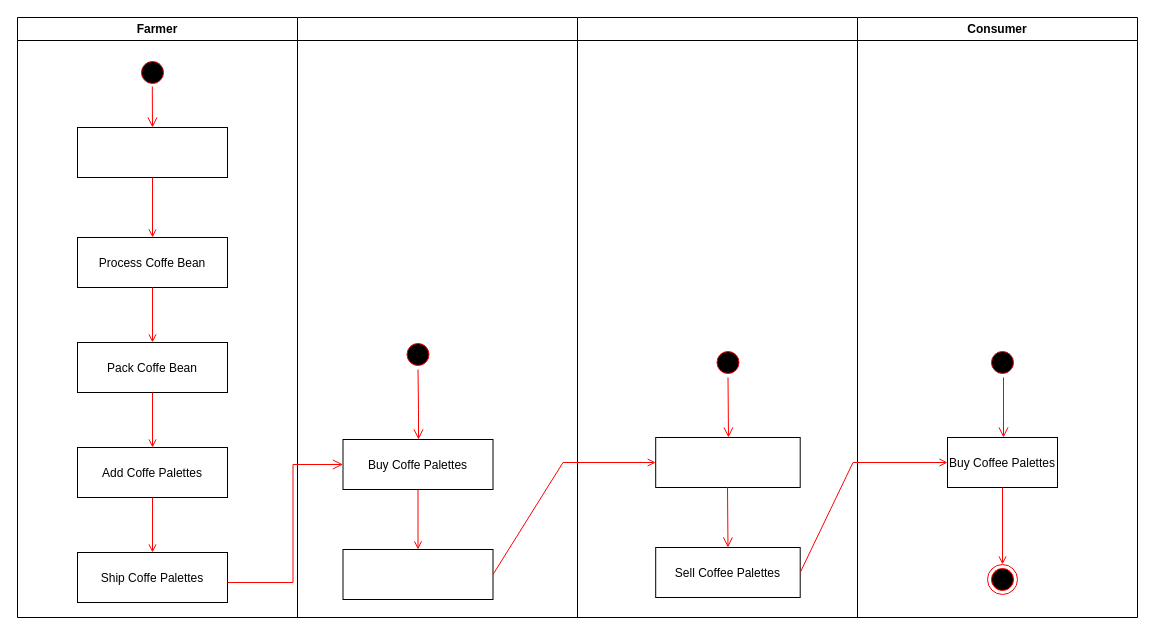
Image size: 1155x635. Some labels were removed from this diagram. Here are the shapes that lost their labels. From the top down, the box of each, then its label:
(76, 126, 228, 178): Harvest Coffe Bean
(296, 16, 578, 618): Distributor
(576, 16, 858, 618): Retailer
(655, 436, 800, 488): Receive Coffee Palettes
(342, 548, 493, 600): Supply Coffe Palettes
